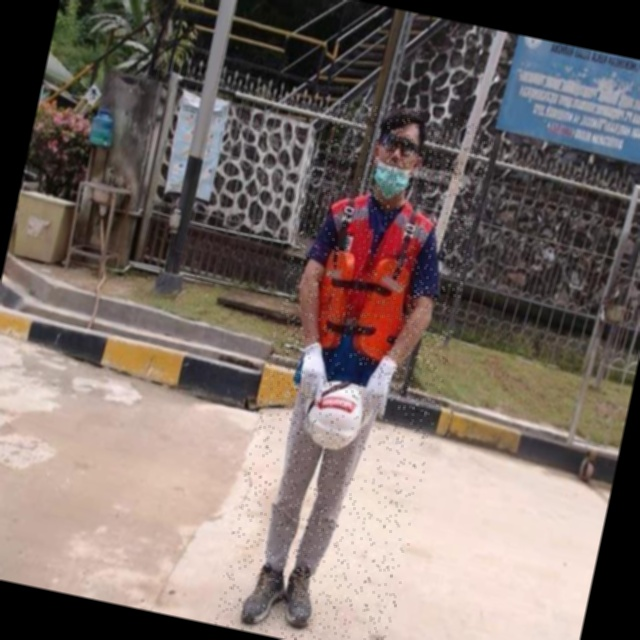gloves: (226, 332, 261, 400), (298, 332, 334, 398)
helmet: (250, 375, 316, 443)
vest: (224, 184, 334, 385)
